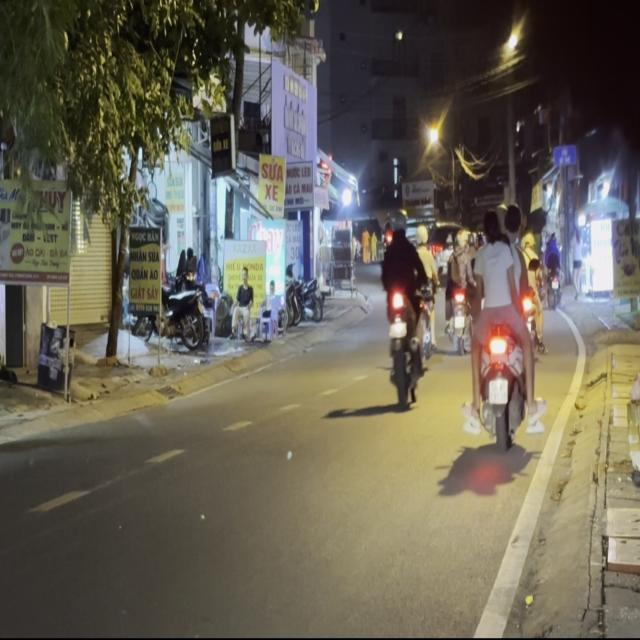licenseplate: (462, 199, 539, 455)
motorcyclist: (502, 202, 522, 245), (481, 207, 501, 243)
nohelmet: (489, 379, 508, 404)
